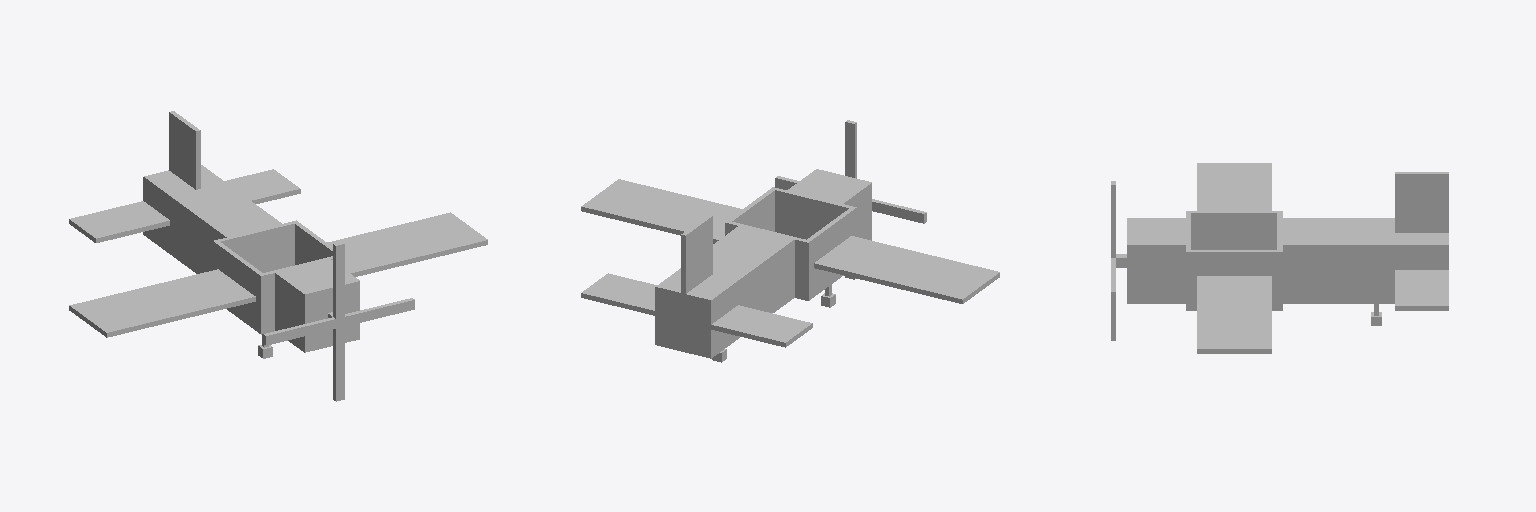
File: wooden_plane.obj
3 renders of one model, left to right at view 1: azimuth 30°, elevation 25°; view 2: azimuth 150°, elevation 25°; view 3: azimuth 270°, elevation 25°, orthographic.
Parts seen in each view (by area): view 1: cube2, cube1, cube, cube8, blade, cube6, cube10, cube11, cube4, cube9, cube7, cube5; view 2: cube2, cube1, cube, cube7, cube8, cube10, cube11, cube9, cube4, blade, cube6, cube5; view 3: cube2, cube, cube8, cube1, cube4, cube11, cube5, cube9, blade, cube6.
Part boxes in pixels (bbox=[...]): cube2: bbox=[143, 165, 281, 273]; cube1: bbox=[69, 269, 255, 337]; cube: bbox=[327, 212, 487, 276]; cube8: bbox=[275, 259, 359, 352]; blade: bbox=[263, 242, 414, 401]; cube6: bbox=[213, 220, 298, 272]; cube10: bbox=[69, 201, 169, 242]; cube11: bbox=[169, 111, 200, 189]; cube4: bbox=[215, 242, 261, 326]; cube9: bbox=[225, 169, 300, 203]; cube7: bbox=[258, 256, 332, 334]; cube5: bbox=[295, 223, 332, 264]; cube2: bbox=[655, 226, 794, 358]; cube1: bbox=[814, 236, 999, 303]; cube: bbox=[581, 179, 741, 243]; cube7: bbox=[771, 187, 856, 239]; cube8: bbox=[787, 169, 871, 240]; cube10: bbox=[711, 305, 812, 347]; cube11: bbox=[681, 215, 712, 293]; cube9: bbox=[581, 273, 656, 315]; cube4: bbox=[807, 208, 853, 293]; blade: bbox=[775, 120, 926, 279]; cube6: bbox=[725, 220, 810, 300]; cube5: bbox=[728, 189, 774, 231]; cube2: bbox=[1283, 218, 1448, 303]; cube: bbox=[1197, 276, 1271, 353]; cube8: bbox=[1127, 218, 1185, 303]; cube1: bbox=[1197, 163, 1271, 210]; cube4: bbox=[1191, 211, 1276, 249]; cube11: bbox=[1395, 172, 1448, 232]; cube5: bbox=[1191, 250, 1276, 305]; cube9: bbox=[1395, 270, 1448, 310]; blade: bbox=[1111, 181, 1126, 340]; cube6: bbox=[1277, 211, 1282, 310].
Bounding box in the file's own units: 5.12 × 2.12 × 3.94.